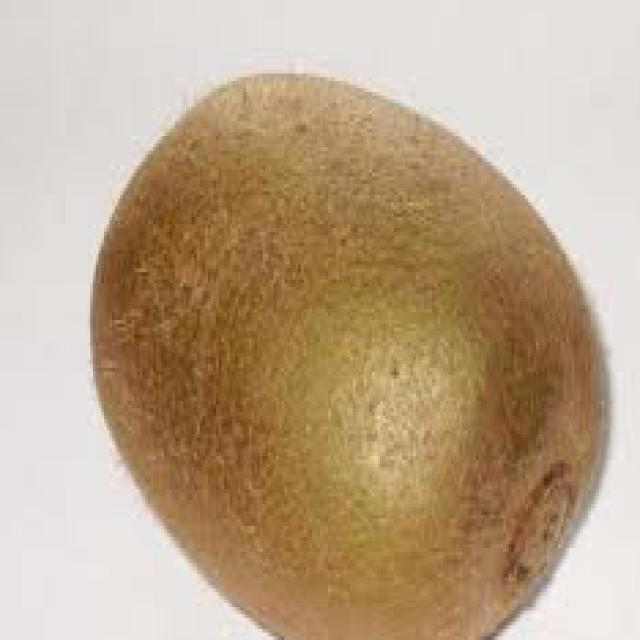kiwi: (88, 62, 616, 640)
